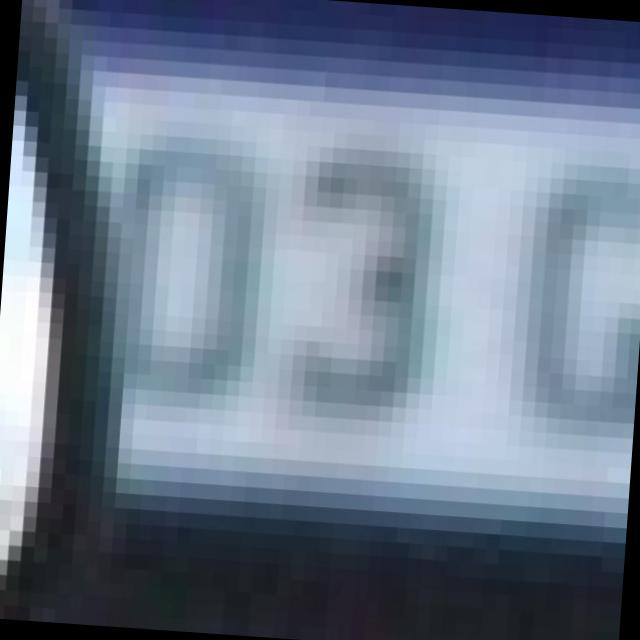LicensePlate: (26, 44, 640, 572)
